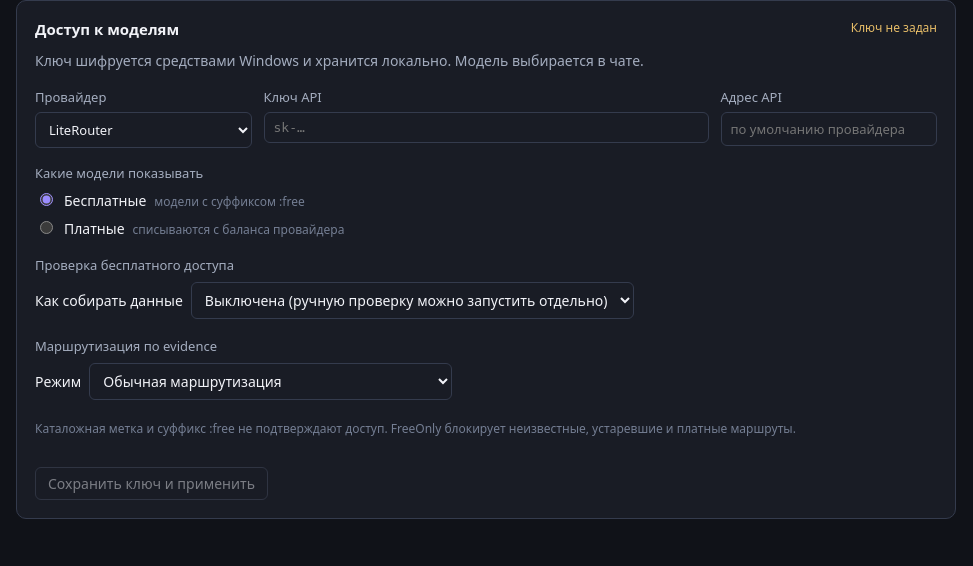
provider form › surfaces a rejected write instead of reporting success
Type "sk-value" into the password field labelled "Ключ API".
click(486, 128); type("sk-value")  # box [264,112,708,143]
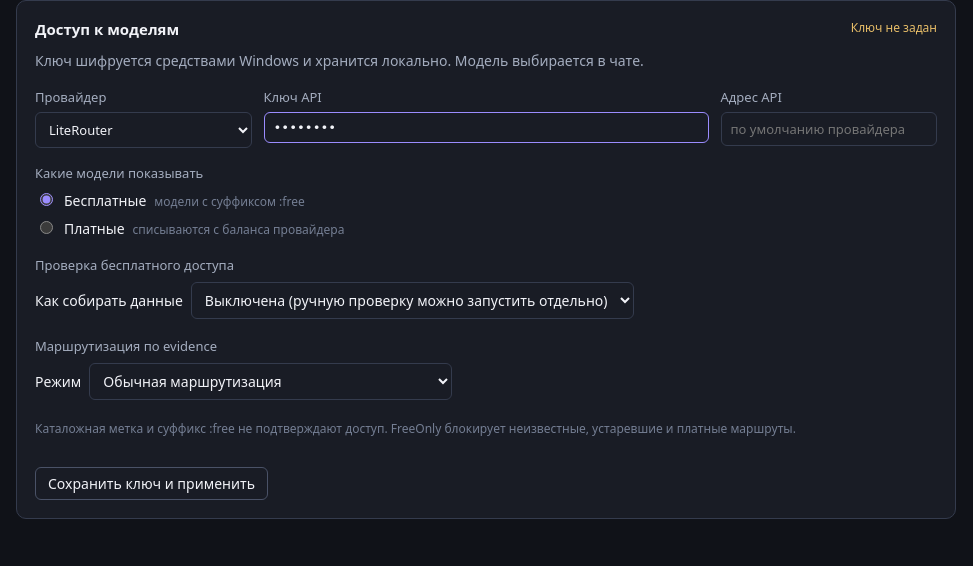
Click the button "Сохранить ключ и применить".
click(152, 484)  # box [35,467,268,500]
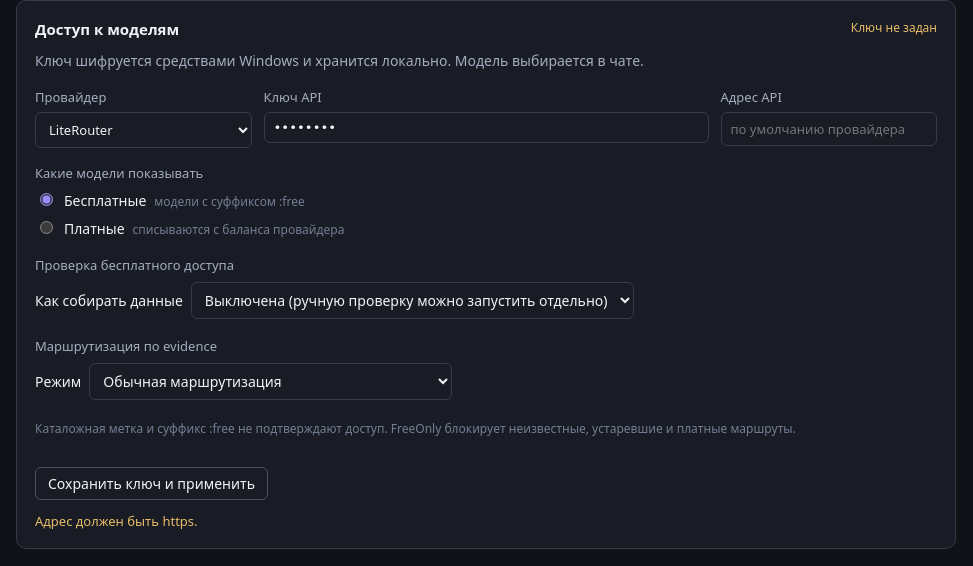
Expected: the text "Ключ не задан" is shown, [851,19,937,36]
Expected: the text "Адрес должен быть https." is shown, [35,512,198,530]
